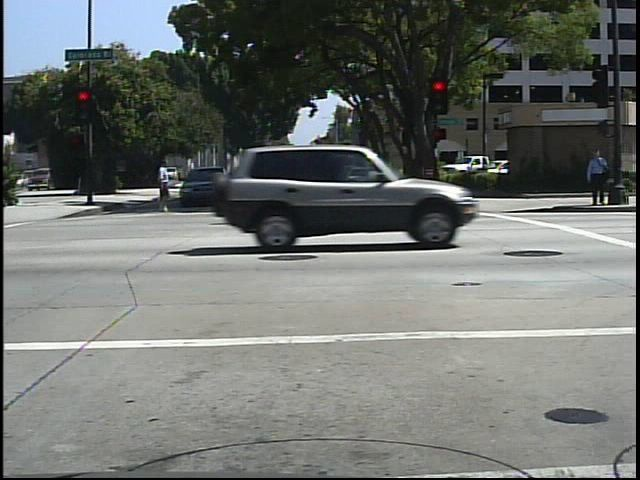person: (146, 155, 181, 219), (585, 143, 610, 209)
